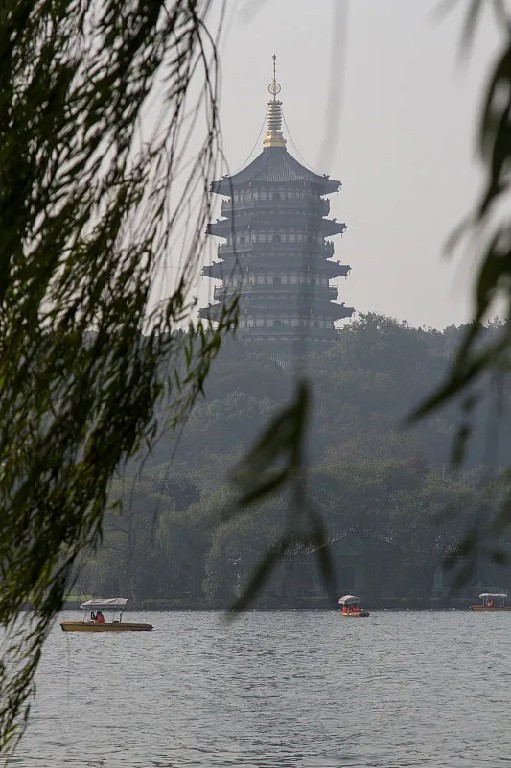Leifeng: (201, 48, 357, 352)
